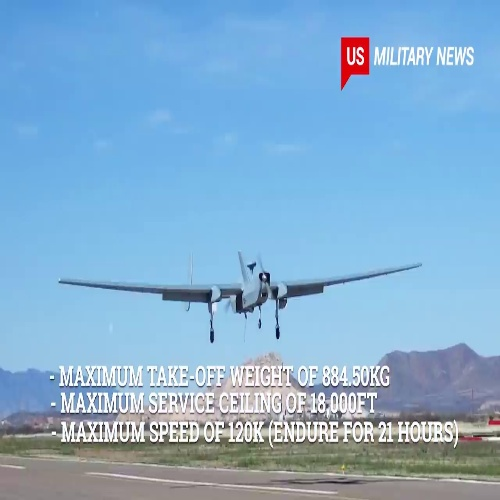uav323: (56, 250, 426, 337)
